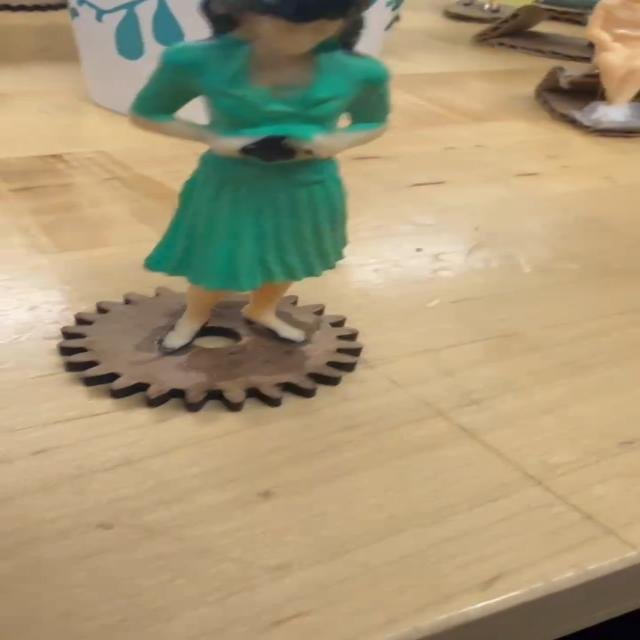Authorized: (115, 3, 386, 359)
